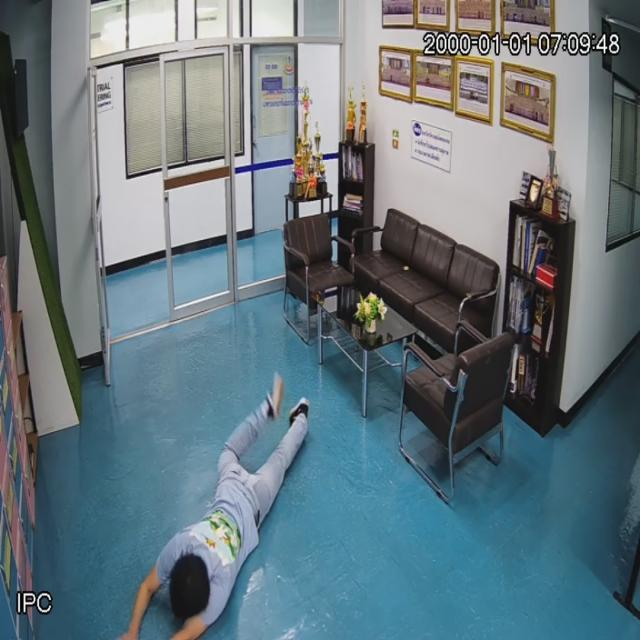fall: (136, 366, 312, 640)
